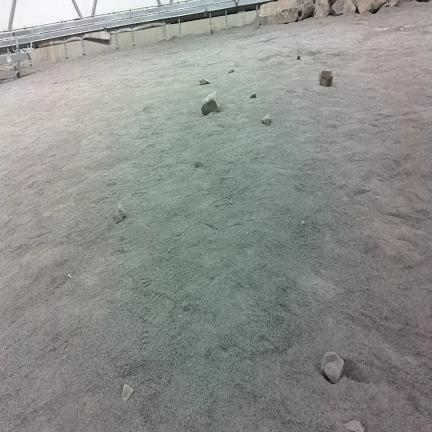Rock: (260, 0, 298, 25), (321, 352, 343, 383), (202, 91, 220, 115), (331, 0, 356, 15), (358, 0, 386, 13), (297, 0, 314, 20), (314, 0, 330, 17), (345, 420, 364, 431), (115, 203, 125, 223), (319, 71, 332, 86), (122, 384, 133, 401), (262, 115, 271, 125), (195, 157, 204, 167), (254, 14, 260, 27), (389, 0, 399, 6), (352, 0, 360, 7), (200, 79, 210, 84), (329, 0, 336, 6), (211, 27, 217, 33), (250, 93, 256, 98), (383, 2, 389, 7), (229, 69, 234, 73), (297, 55, 300, 60)
